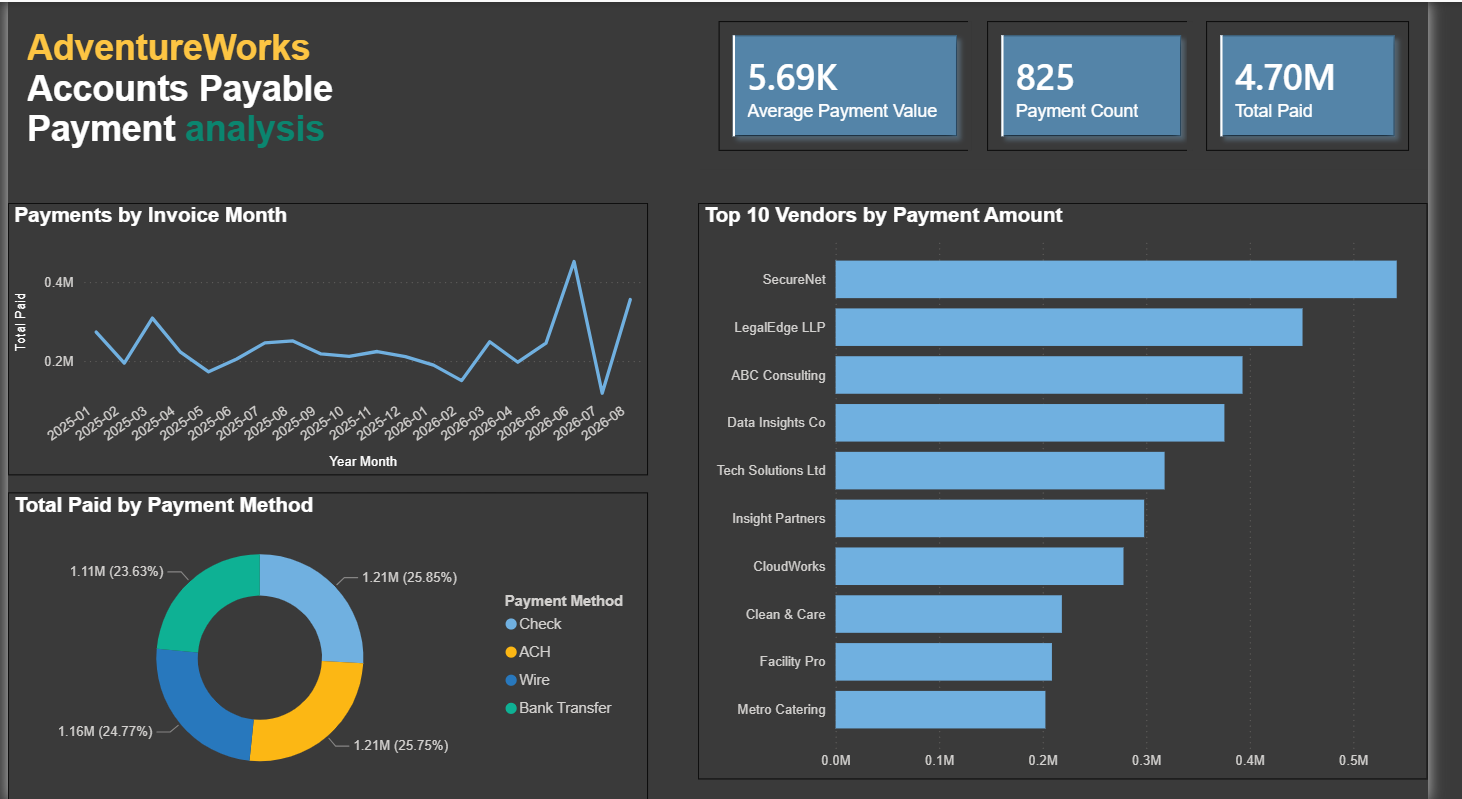

The page's visual inventory and layout, read from the dashboard file:
{"tool":"powerbi","page":{"name":"Payment Analysis","canvas":[1280,720],"ordinal":3},"visuals":[{"type":"cardVisual","fields":{"Data":["Fact_Payment.Average Payment Value"]},"box":[622.9,0,262.9,151.4],"z":0},{"type":"lineChart","title":"Payments by Invoice Month","fields":{"Y":["Fact_Invoice.Total Paid"],"Category":["Dim_Date.Year Month"]},"box":[0,181.7,576.9,245.3],"z":1000},{"type":"donutChart","fields":{"Category":["Fact_Payment.Payment_Method"],"Y":["Fact_Invoice.Total Paid"]},"box":[0,442.1,576.9,277.1],"z":2000},{"type":"clusteredBarChart","title":"Top 10 Vendors by Payment Amount","fields":{"Category":["Dim_Vendor.Vendor_Name"],"Y":["Fact_Invoice.Total Paid"]},"box":[622.3,181.7,657.2,519.4],"z":3000},{"type":"cardVisual","fields":{"Data":["Fact_Payment.Payment count"]},"box":[865.7,0,222.9,151.4],"z":4000},{"type":"textbox","box":[12.1,18.2,375.5,133.3],"z":5000},{"type":"cardVisual","fields":{"Data":["Fact_Invoice.Total Paid"]},"box":[1062.9,0,217.1,151.4],"z":5001}]}

Visuals, with their boxes in screenshot pixels (x1, y1, x2, y2), scaled from the page's 1280x720 canvas onto the 1462x799 screenshot:
cardVisual - Fact_Payment.Average Payment Value: {"left": 711, "top": 0, "right": 1012, "bottom": 168}
"Payments by Invoice Month" lineChart: {"left": 0, "top": 202, "right": 659, "bottom": 474}
donutChart - Fact_Payment.Payment_Method x Fact_Invoice.Total Paid: {"left": 0, "top": 491, "right": 659, "bottom": 798}
"Top 10 Vendors by Payment Amount" clusteredBarChart: {"left": 711, "top": 202, "right": 1461, "bottom": 778}
cardVisual - Fact_Payment.Payment count: {"left": 989, "top": 0, "right": 1243, "bottom": 168}
textbox: {"left": 14, "top": 20, "right": 443, "bottom": 168}
cardVisual - Fact_Invoice.Total Paid: {"left": 1214, "top": 0, "right": 1461, "bottom": 168}
